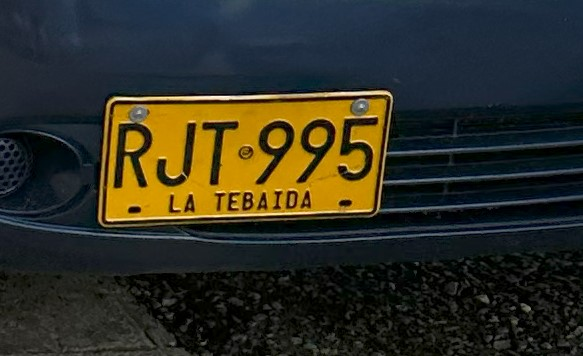number plate: (98, 90, 392, 226)
